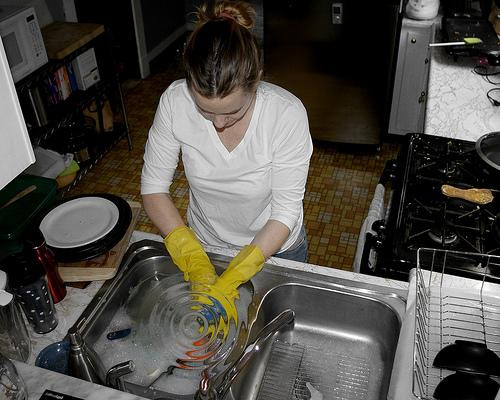person: (140, 1, 317, 313)
